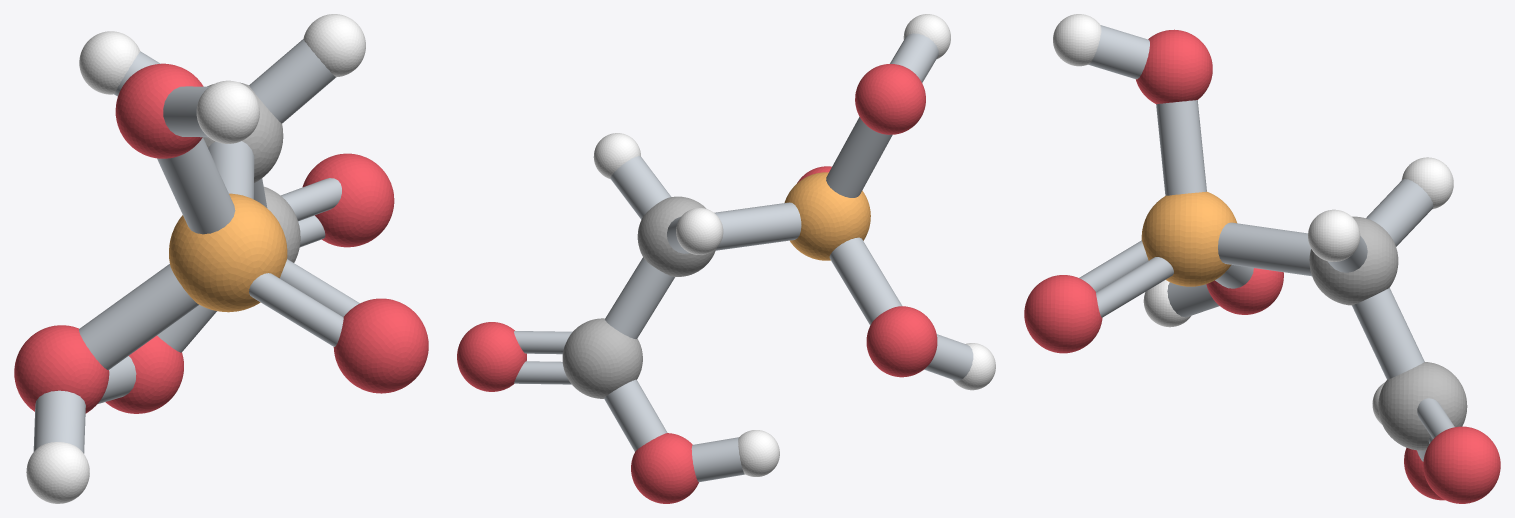
Rendered from 2-phosphonoacetic.glb.
The picture shows the model from 3 angles, left to right: view 1: azimuth 30°, elevation 25°; view 2: azimuth 150°, elevation 25°; view 3: azimuth 270°, elevation 25°; orthographic projection. The views are drawn at different scales.
Size of the model in its own units: 4.86 by 4.51 by 4.55.
